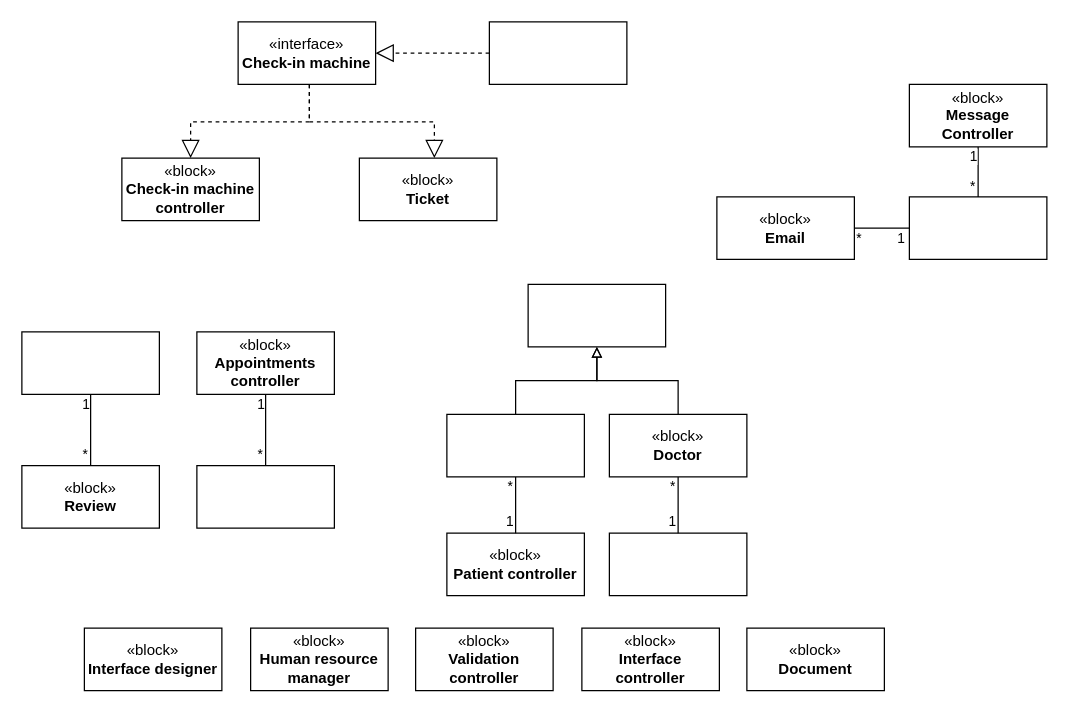
Some shapes in this 1069 by 713 pixel diagram are drawn without their labels. The shapes that lost their labels are listed below. From the top down, each one's centre as x and y in pixels, then its label:
At pixel 557 52: "«block» Card".
At pixel 977 227: "«block» Message".
At pixel 596 315: "«block» User".
At pixel 90 362: "«block» Reviews controller".
At pixel 515 445: "«block» Patient".
At pixel 265 496: "«block» Appointment".
At pixel 677 564: "«block» Doctor controller".
